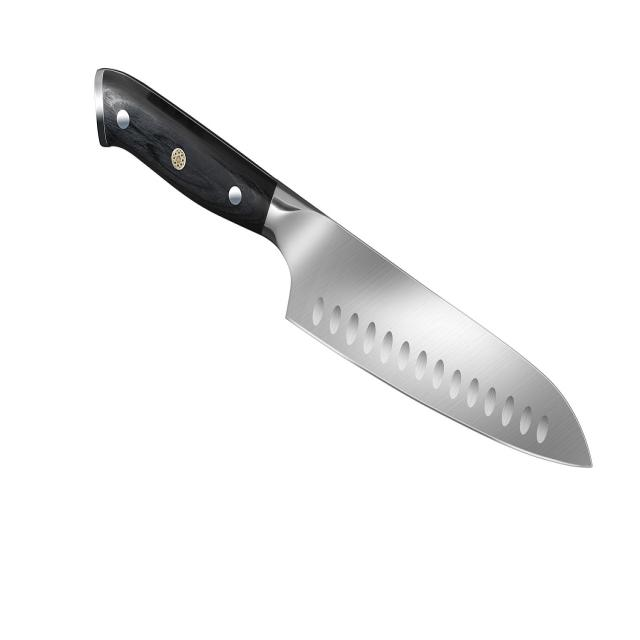Knife: (95, 70, 591, 466)
